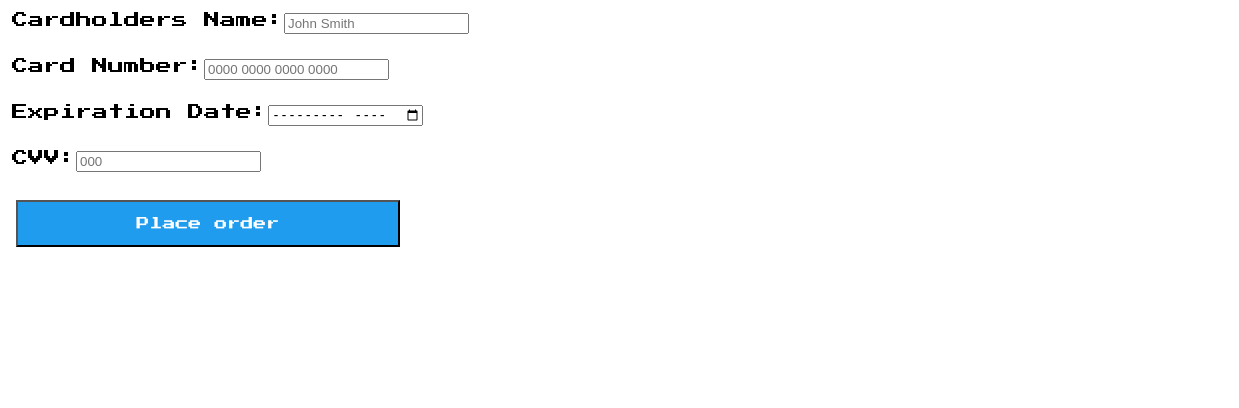
Test: CheckoutForm › with invalid inputs › shows errors
The image size is (1239, 408).
# con act nos aseguramos de que se procesen las actualizaciones en el DOM
Click the button "Place order" at (208, 224), box 16,200 -> 400,247
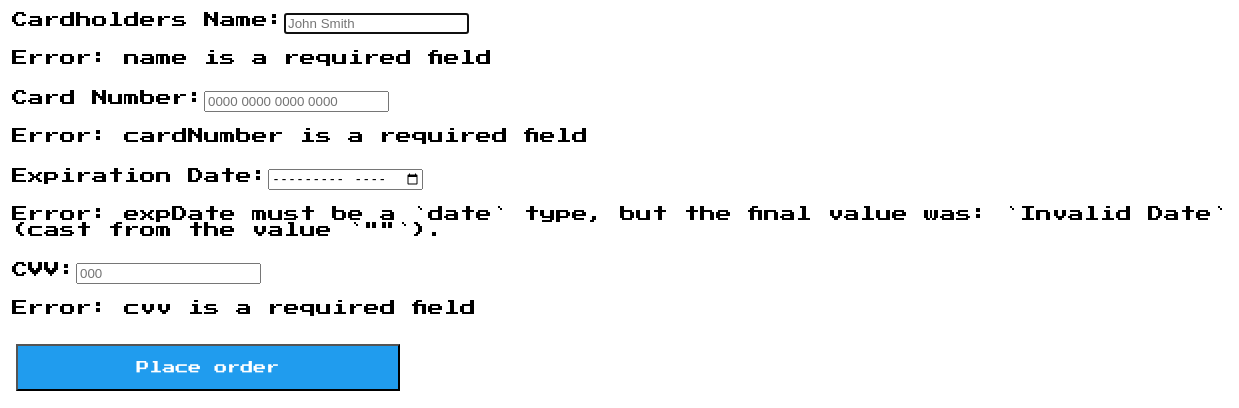
Expected: the text "Error:" is shown, 12,50 -> 124,66
